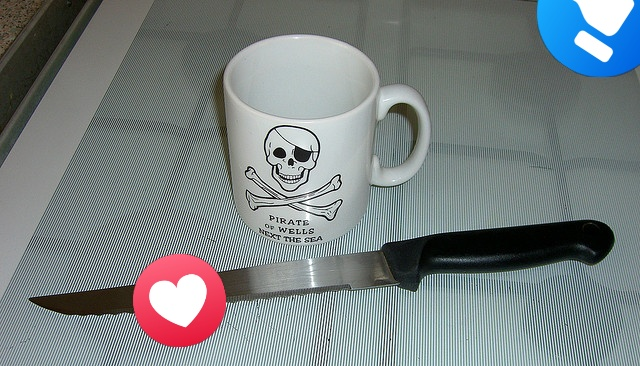like: (537, 0, 640, 77)
love: (133, 254, 226, 347)
